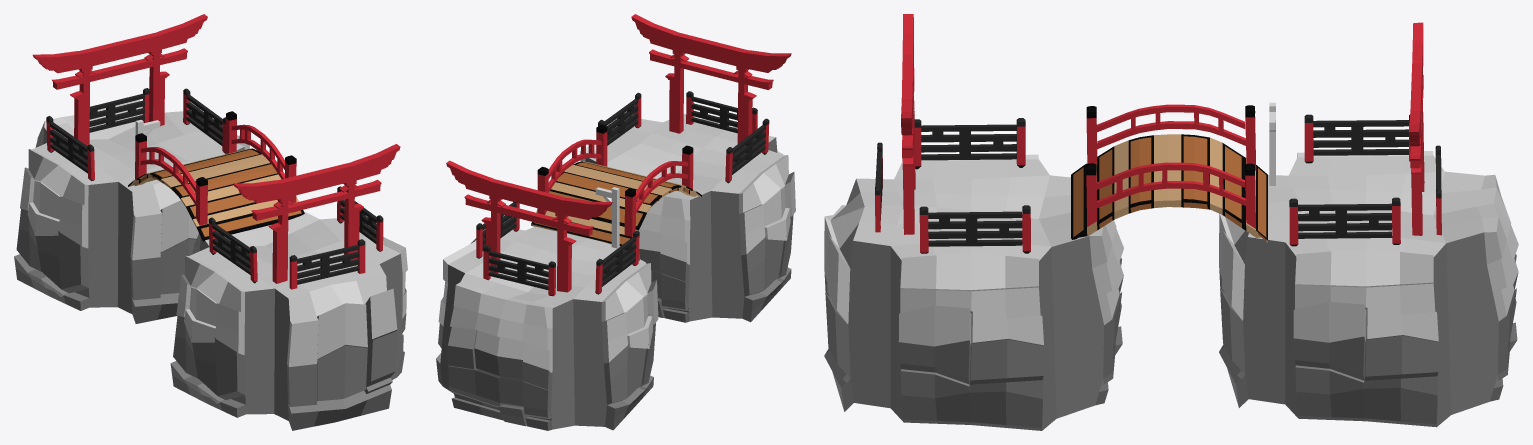
The model's file is Jembatan 1.fbx.
The picture shows the model from 3 angles, left to right: view 1: azimuth 30°, elevation 25°; view 2: azimuth 150°, elevation 25°; view 3: azimuth 270°, elevation 25°; orthographic projection. The views are drawn at different scales.
Parts seen in each view (by area): view 1: tebing.001, tebing, pilar, pilar2, jembatan, pager6, pegangan.001, pegangan, pager5, pager3, pager, pager2 (+1 smaller); view 2: tebing, tebing.001, pilar2, pilar, jembatan, pager5, pegangan.001, pegangan, pager6, pager3, pager, pager4 (+2 smaller); view 3: tebing, tebing.001, jembatan, pegangan, pegangan.001, pager2, pager3, pager4, pager, pilar2, pilar.
Part boxes in pixels (x1,y1,x2,y2): tebing.001: (170,211,407,430); tebing: (14,100,249,323); pilar: (32,14,207,145); pilar2: (233,144,400,283); jembatan: (128,148,304,241); pager6: (289,239,365,289); pegangan.001: (135,133,207,225); pegangan: (225,111,296,203); pager5: (89,88,149,132); pager3: (208,217,257,283); pager: (46,116,94,180); pager2: (183,88,225,153); tebing: (436,226,658,430); tebing.001: (580,113,795,322); pilar2: (631,14,791,143); pilar: (446,160,612,292); jembatan: (531,161,701,246); pager5: (483,245,555,296); pegangan.001: (624,145,693,236); pegangan: (537,124,607,214); pager6: (686,91,757,133); pager3: (725,118,769,183); pager: (595,230,639,294); pager4: (598,92,641,145); tebing: (1219,151,1518,427); tebing.001: (824,154,1123,430); jembatan: (1071,134,1267,242); pegangan: (1086,162,1255,228); pegangan.001: (1086,104,1256,170); pager2: (1289,197,1400,246); pager3: (914,118,1025,169); pager4: (919,205,1030,253); pager: (1304,114,1410,163); pilar2: (901,14,915,234); pilar: (1409,22,1424,235).
Bounding box in the file's own units: 1245 × 1376 × 2704.
